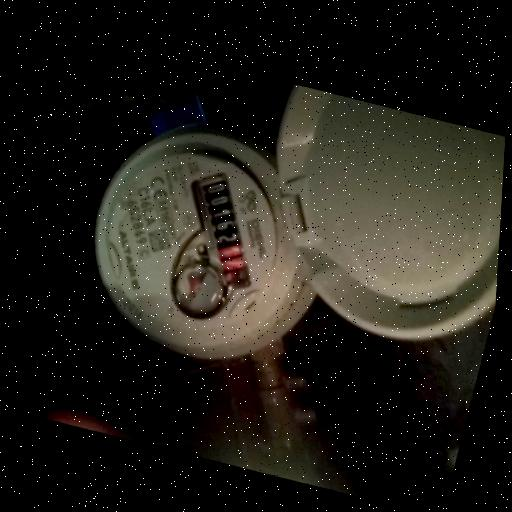0: (201, 187, 235, 216), (199, 174, 231, 202)
1: (214, 237, 246, 265), (205, 200, 237, 227)
2: (210, 222, 244, 254)
6: (207, 210, 240, 239)
7: (216, 248, 251, 279)
border_water_meter_number: (172, 169, 280, 299)
